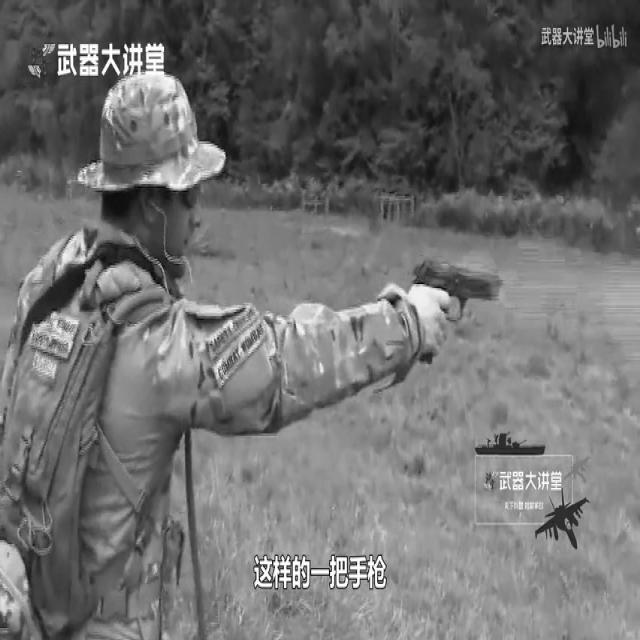Hand-Gun: (403, 242, 506, 350)
